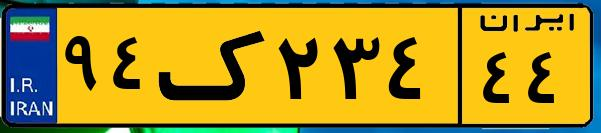2: (270, 28, 330, 110)
3: (330, 28, 385, 110)
4: (385, 28, 445, 110), (475, 38, 525, 113), (525, 38, 570, 115), (110, 28, 158, 98)
9: (57, 26, 110, 100)
ک: (158, 12, 270, 120)
